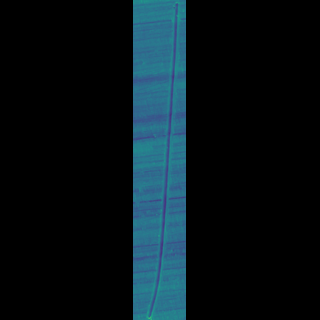Loch: (157, 4, 163, 320)
